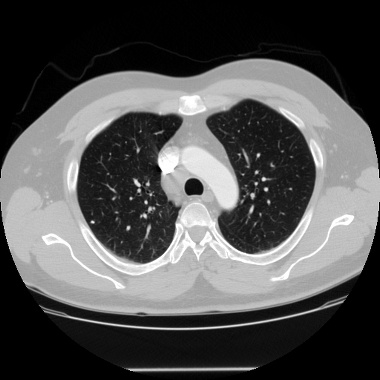PN: (90, 220, 94, 224)
